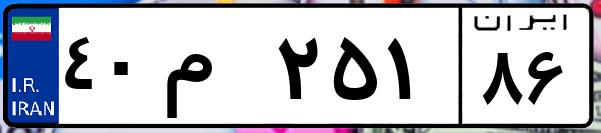0: (110, 28, 158, 98)
1: (385, 28, 445, 110)
2: (270, 28, 330, 110)
4: (57, 26, 110, 100)
5: (330, 28, 385, 110)
6: (525, 38, 570, 115)
8: (475, 38, 525, 113)
م: (158, 20, 270, 120)
